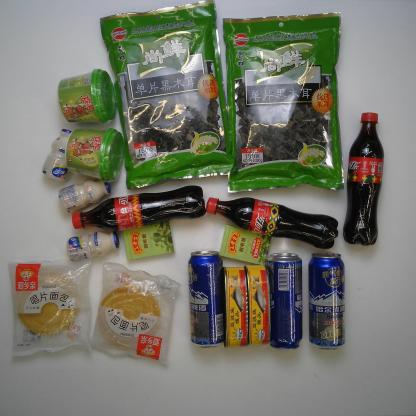Alcohol: (306, 249, 367, 356), (258, 250, 306, 354), (183, 250, 229, 351)
Candy: (116, 221, 184, 264), (217, 221, 273, 269)
Canned Food: (222, 265, 254, 351), (246, 264, 279, 346)
Dessert: (5, 254, 100, 360), (91, 260, 181, 362)
Dried Food: (95, 3, 243, 188), (219, 14, 350, 196)
Drink: (203, 193, 336, 253), (345, 110, 397, 249), (69, 186, 212, 233)
Instant Drink: (50, 68, 118, 132), (62, 124, 127, 182)
Milk: (38, 127, 85, 184), (64, 226, 126, 265), (56, 177, 113, 213)
